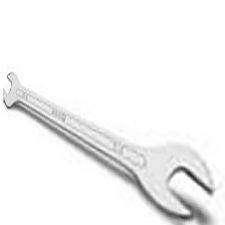wrench: (2, 67, 219, 219)
